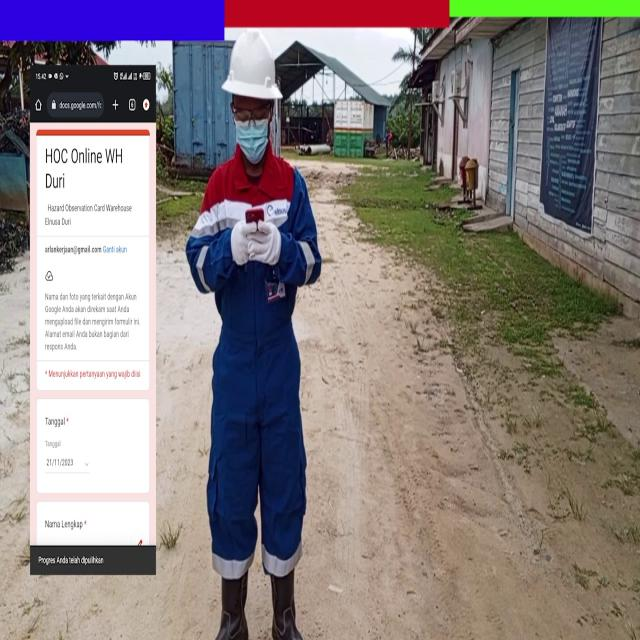Gloves: (248, 220, 280, 266), (230, 215, 256, 265)
Hardhat: (220, 36, 283, 109)
Mask: (236, 116, 270, 165)
Overall Suit: (185, 154, 322, 579)
Safety Boots: (271, 568, 303, 640), (215, 574, 248, 640)
